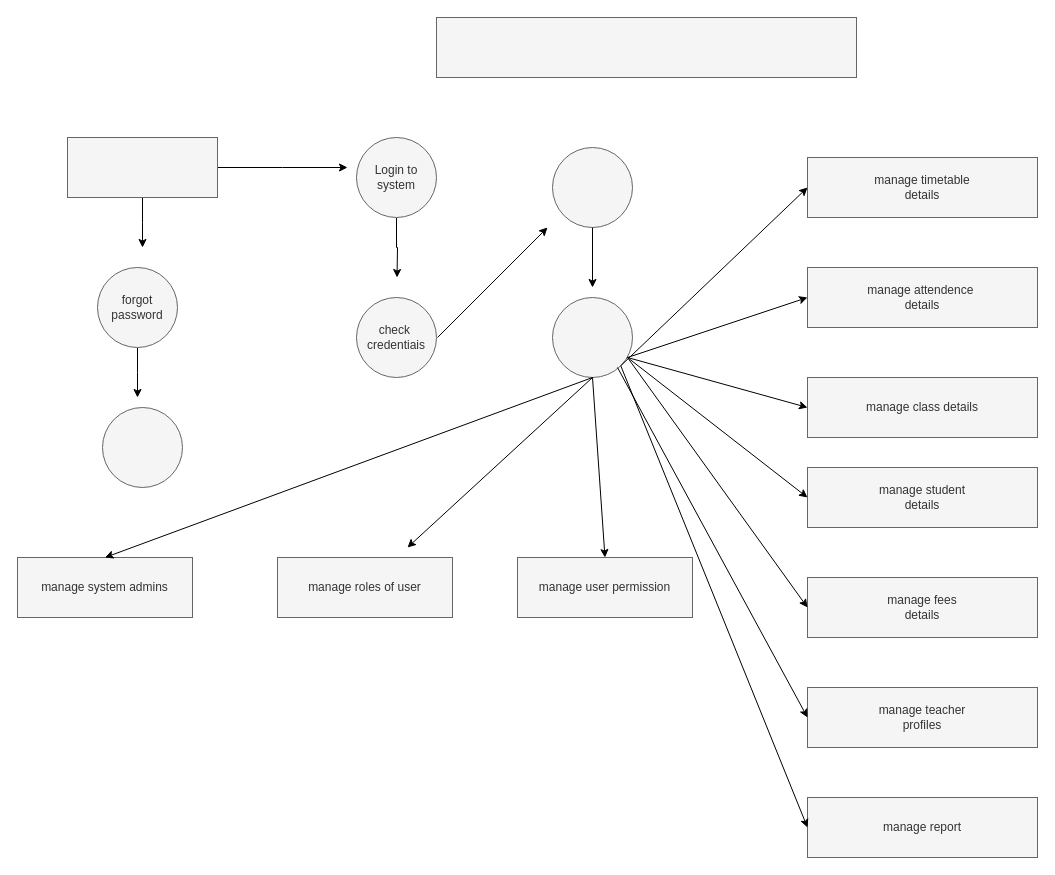
This 1055x875 diagram has some shape labels left out. Here are the shapes that lost their labels. From the top down, the centre of each, then its label:
(x=646, y=47): Student Information System
(x=142, y=167): Admin
(x=592, y=187): check roles of access
(x=592, y=337): manage modules
(x=142, y=447): send to user
